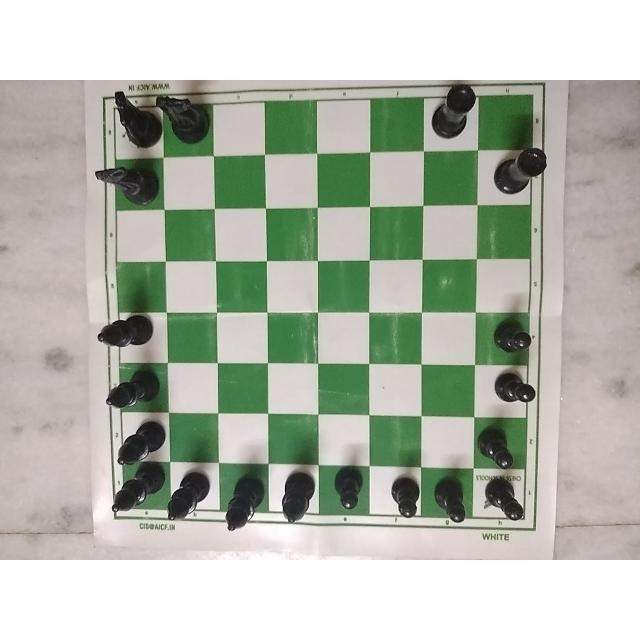black-bishop: (104, 461, 168, 526), (92, 309, 164, 358), (160, 464, 214, 527), (101, 366, 159, 422), (108, 415, 164, 473), (218, 468, 266, 533), (278, 464, 320, 525)
black-knight: (106, 82, 166, 154), (153, 90, 214, 154), (99, 162, 159, 206)
black-pawn: (485, 363, 542, 411), (471, 417, 522, 470), (427, 472, 475, 527), (482, 475, 530, 529), (378, 468, 425, 520), (325, 469, 375, 509), (491, 317, 537, 358)
black-rook: (482, 144, 554, 196), (428, 81, 483, 144)
